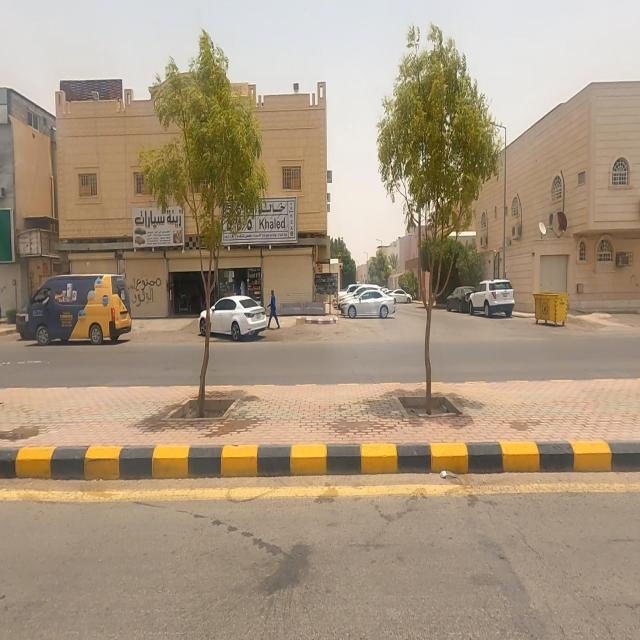Graffiti: (130, 276, 162, 307)
